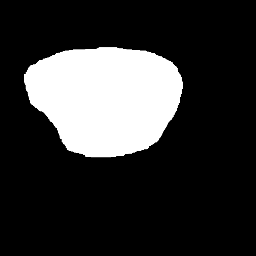mass: (26, 29, 206, 162)
